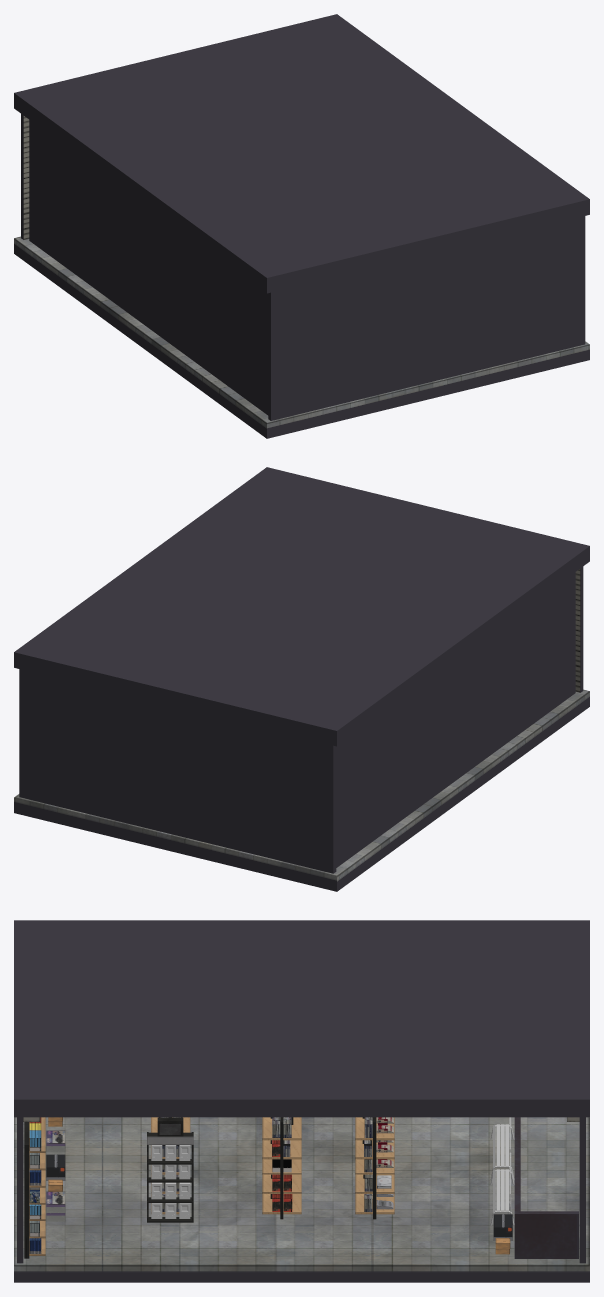
The model's file is RetroGameF2.fbx.
3 views of the same model, one above another, from view 1: azimuth 30°, elevation 25°; view 2: azimuth 150°, elevation 25°; view 3: azimuth 270°, elevation 25° (orthographic). The views are drawn at different scales.
Visible parts, largest first — view 1: Cube.029, Cube.026, Cube.028, Cube, Cube.027; view 2: Cube.029, Cube.027, Cube.028, Cube, Cube.026; view 3: Cube.029, Cube, Cube.030, Cube.027, Cube.026, Plane.020, Plane.019, Cube.505, Cube.501, Cube.107, Cube.542, Cube.498 (+4 smaller).
Part boxes in pixels (x1=…): Cube.029: x1=14, y1=14, x2=589, y2=293; Cube.026: x1=268, y1=216, x2=585, y2=420; Cube.028: x1=29, y1=120, x2=268, y2=415; Cube: x1=14, y1=236, x2=589, y2=438; Cube.027: x1=21, y1=114, x2=29, y2=239; Cube.029: x1=14, y1=467, x2=589, y2=746; Cube.027: x1=19, y1=669, x2=336, y2=873; Cube.028: x1=336, y1=572, x2=575, y2=867; Cube: x1=14, y1=689, x2=589, y2=891; Cube.026: x1=575, y1=566, x2=583, y2=692; Cube.029: x1=14, y1=920, x2=589, y2=1117; Cube: x1=14, y1=1117, x2=589, y2=1282; Cube.030: x1=514, y1=1117, x2=578, y2=1258; Cube.027: x1=579, y1=1117, x2=585, y2=1263; Cube.026: x1=17, y1=1117, x2=23, y2=1263; Plane.020: x1=490, y1=1152, x2=514, y2=1225; Plane.019: x1=490, y1=1117, x2=514, y2=1179; Cube.505: x1=24, y1=1122, x2=29, y2=1258; Cube.501: x1=262, y1=1117, x2=301, y2=1140; Cube.107: x1=157, y1=1117, x2=183, y2=1136; Cube.542: x1=46, y1=1154, x2=65, y2=1180; Cube.498: x1=262, y1=1194, x2=301, y2=1214.
Size of the model in its own units: 520 by 247 by 705.
